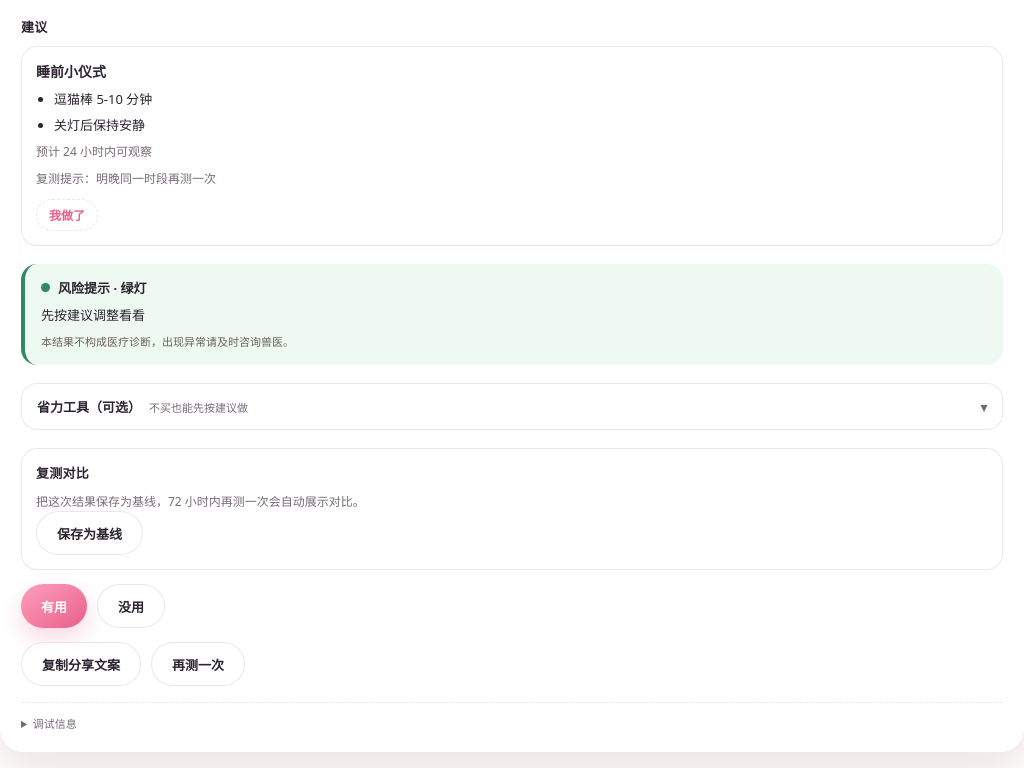
ResultView › 可以把当前结果保存为复测基线
The width and height of the screenshot is (1024, 768).
(page scrolled)
Click the button "保存为基线": point(90, 533) x1=36 y1=511 x2=143 y2=555
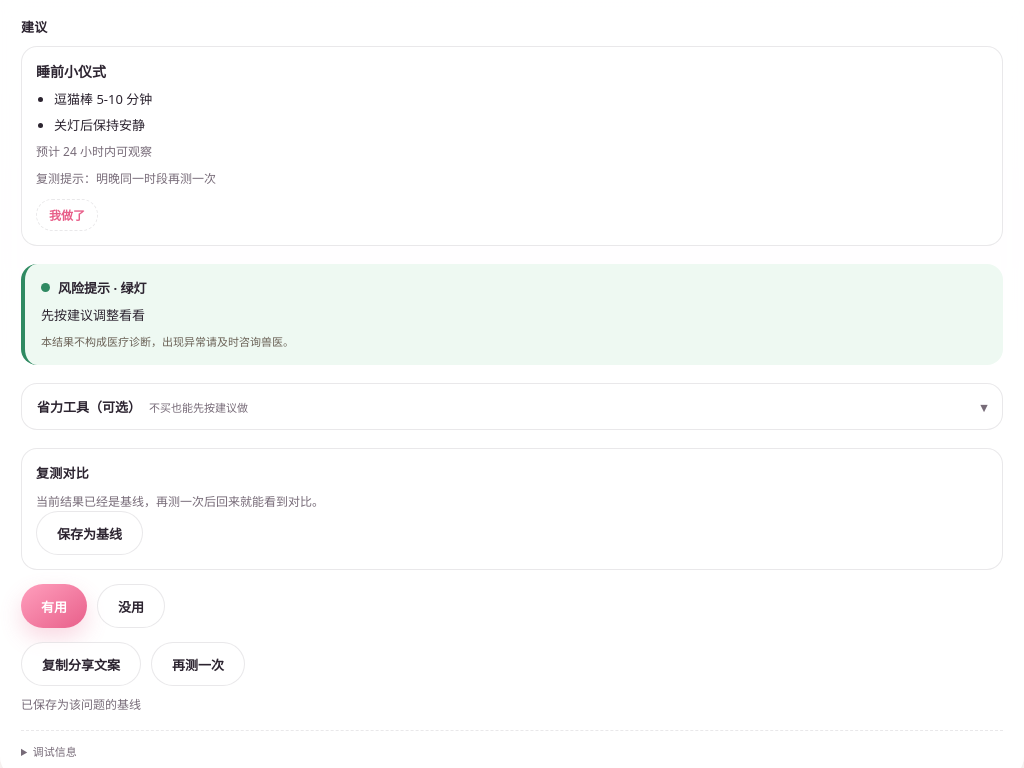
Now the text "已保存为该问题的基线" is shown, box x1=21 y1=696 x2=141 y2=713
Now the text "当前结果已经是基线" is shown, box x1=36 y1=493 x2=324 y2=510
